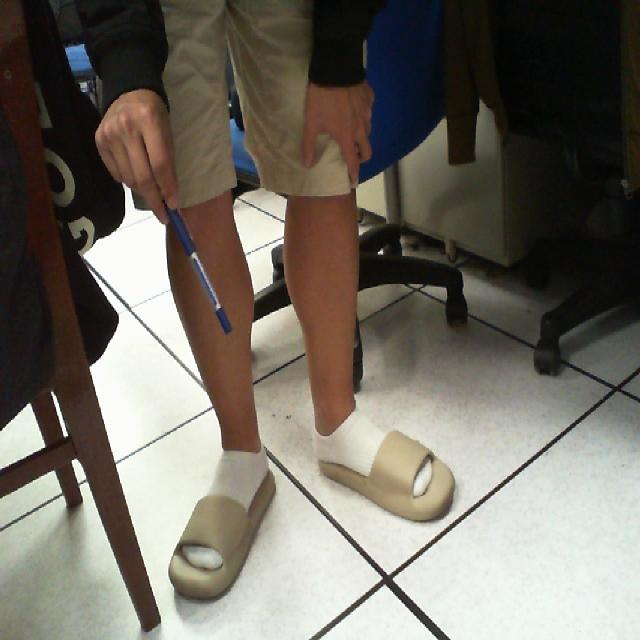Pen: (148, 141, 245, 352)
